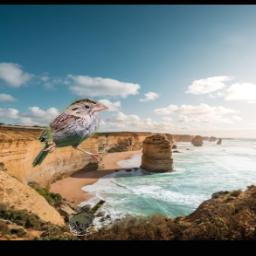Sparrow: (32, 98, 109, 169), (69, 201, 106, 237)
